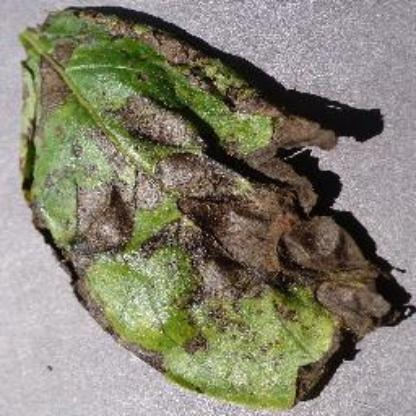Early-Blight: (16, 4, 410, 408)
